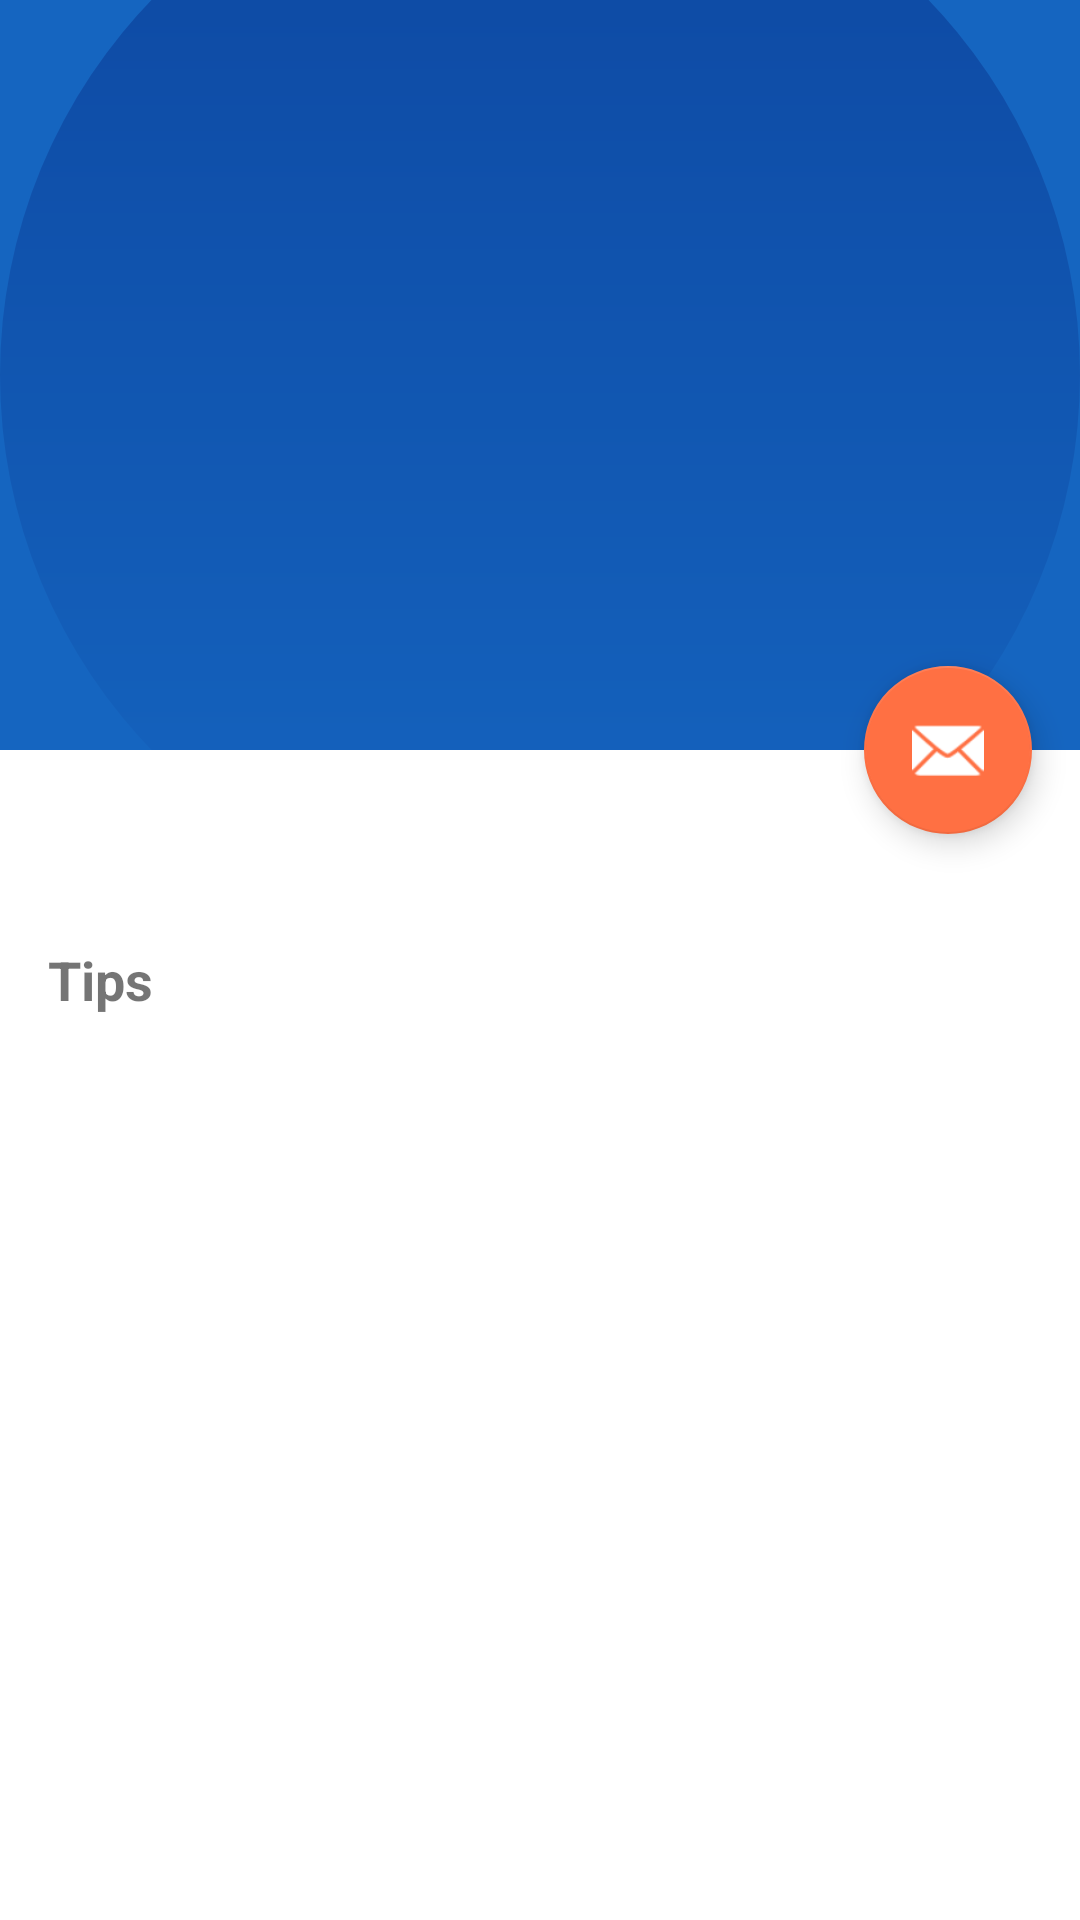

Icon click points for this 1080×1920 phone screenshot, format (x,y):
email: (948,750)
